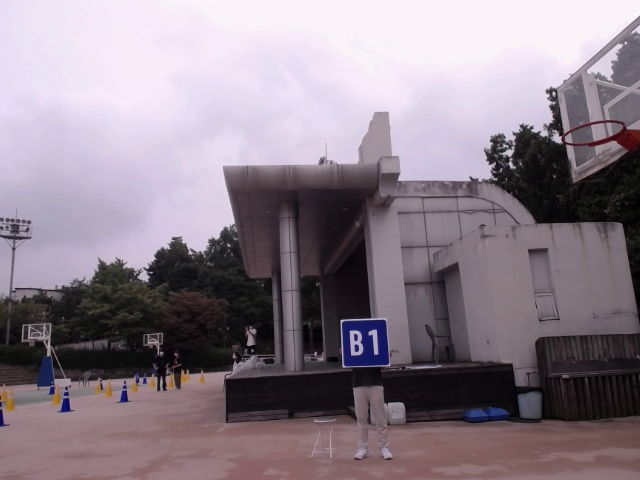delivery_b1: (340, 319, 390, 367)
